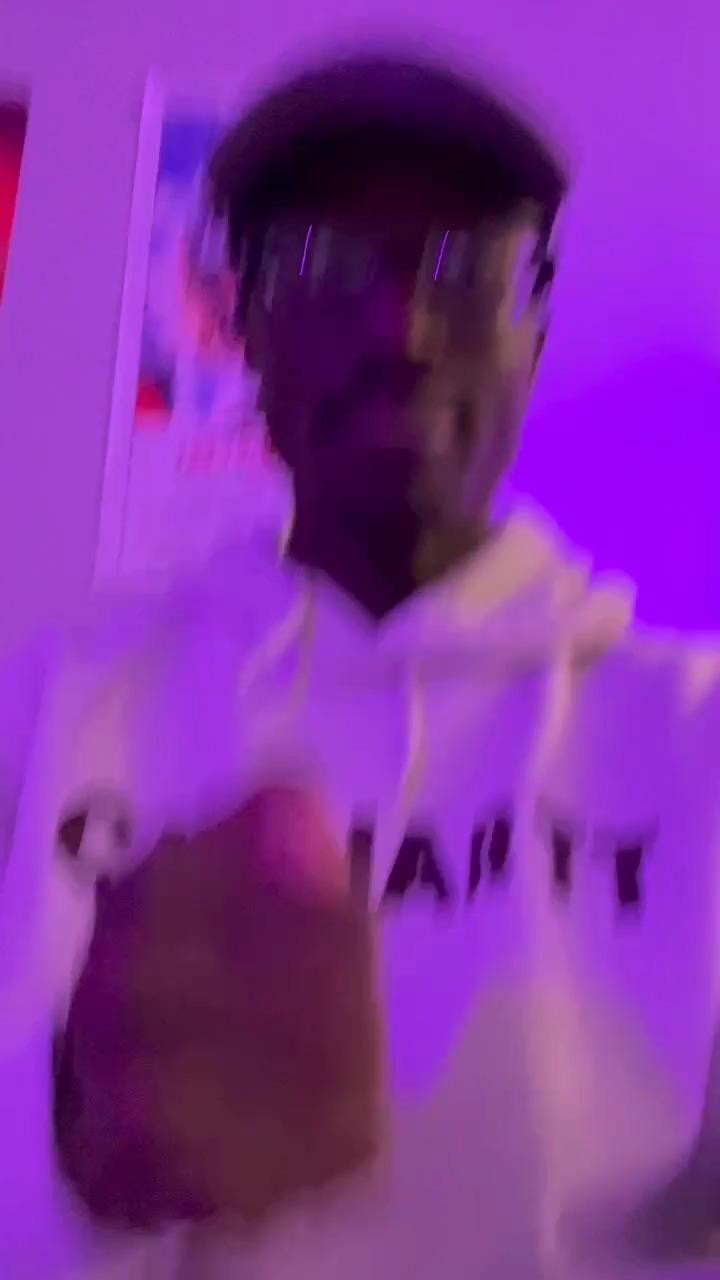Rock: (58, 778, 385, 1225)
